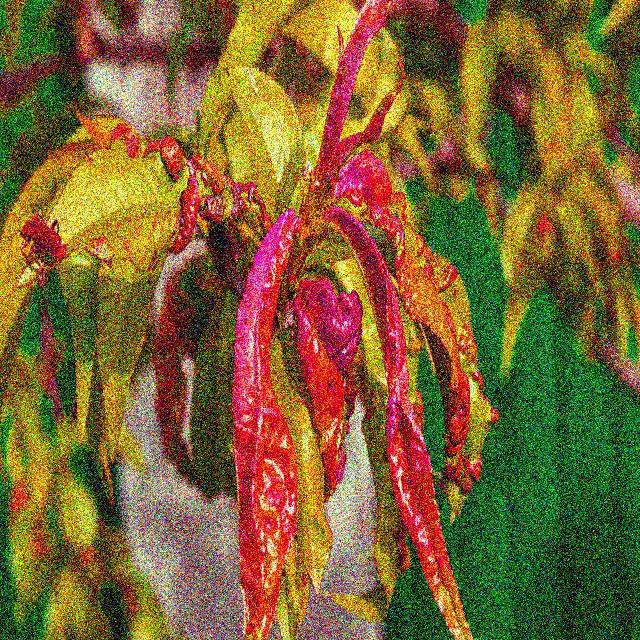leaf_curl: (168, 118, 503, 636)
